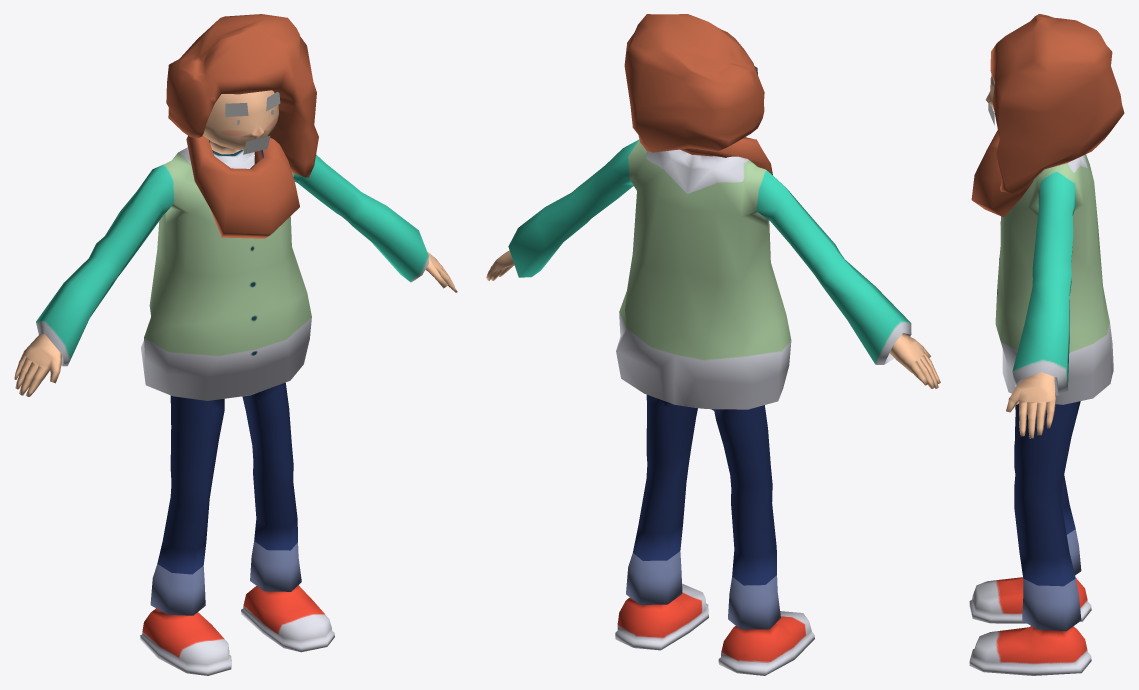
File: girl1_noglasses_3.fbx
3 renders of one model, left to right at view 1: azimuth 30°, elevation 25°; view 2: azimuth 150°, elevation 25°; view 3: azimuth 270°, elevation 25°, orthographic. The views are drawn at different scales.
Visible parts, largest first — view 1: pTorus2; view 2: pTorus2; view 3: pTorus2.
Part boxes in pixels (left/top/right/bottom): pTorus2: left=14, top=14, right=457, bottom=675; pTorus2: left=486, top=14, right=940, bottom=675; pTorus2: left=969, top=14, right=1124, bottom=675.
Bounding box in the file's own units: 11.55 × 15.39 × 3.46.
